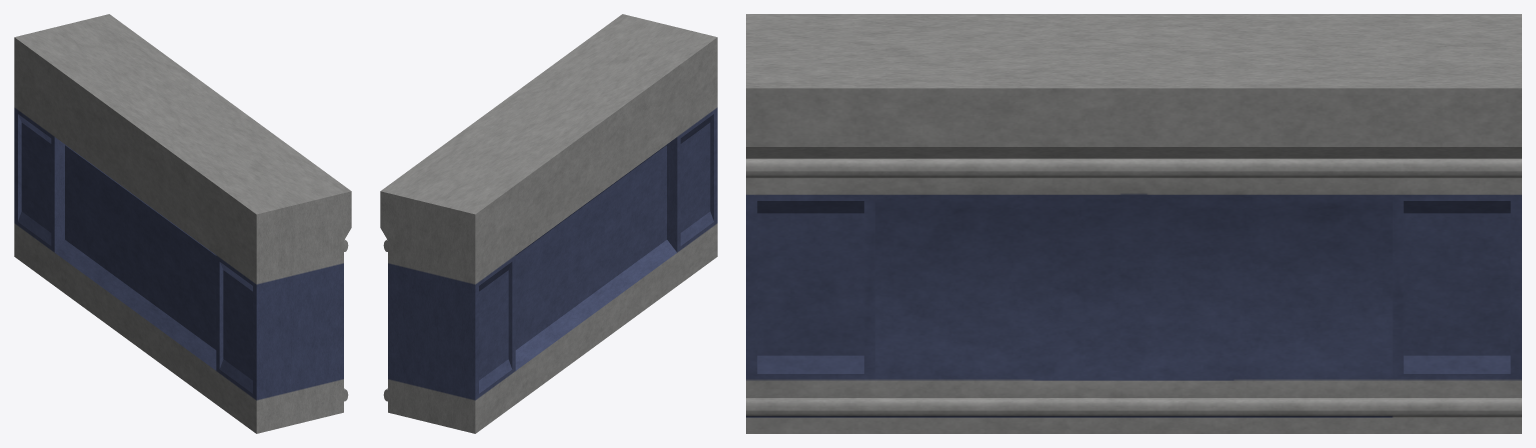
The model's file is outside_wall.fbx.
The picture shows the model from 3 angles, left to right: view 1: azimuth 30°, elevation 25°; view 2: azimuth 150°, elevation 25°; view 3: azimuth 270°, elevation 25°; orthographic projection. The views are drawn at different scales.
Parts seen in each view (by area): view 1: bake; view 2: bake; view 3: bake.
Part boxes in pixels (bbox=[...]): bake: bbox=[14, 14, 351, 433]; bake: bbox=[380, 14, 717, 433]; bake: bbox=[746, 14, 1521, 433].
Bounding box in the file's own units: 109 × 240 × 480.
Materials: 1 (1 with a texture image).
